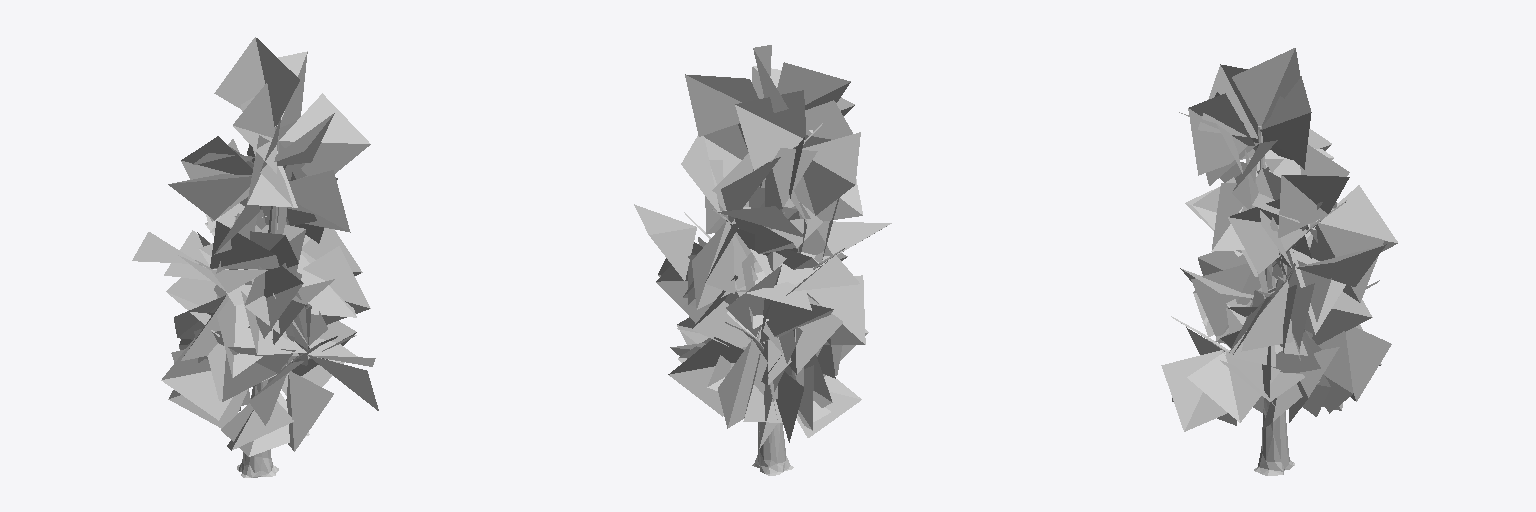
The model's file is tree_6.obj.
3 renders of one model, left to right at view 1: azimuth 30°, elevation 25°; view 2: azimuth 150°, elevation 25°; view 3: azimuth 270°, elevation 25°, orthographic.
Parts seen in each view (by area): view 1: tree_6_leaves, tree_6; view 2: tree_6_leaves, tree_6; view 3: tree_6_leaves, tree_6.
Part boxes in pixels (left/top/right/bottom): tree_6_leaves: left=132, top=37, right=378, bottom=456; tree_6: left=195, top=126, right=337, bottom=477; tree_6_leaves: left=634, top=45, right=891, bottom=448; tree_6: left=684, top=123, right=844, bottom=475; tree_6_leaves: left=1161, top=48, right=1397, bottom=431; tree_6: left=1171, top=126, right=1379, bottom=475.
Bounding box in the file's own units: 3.25 × 6.06 × 3.07.